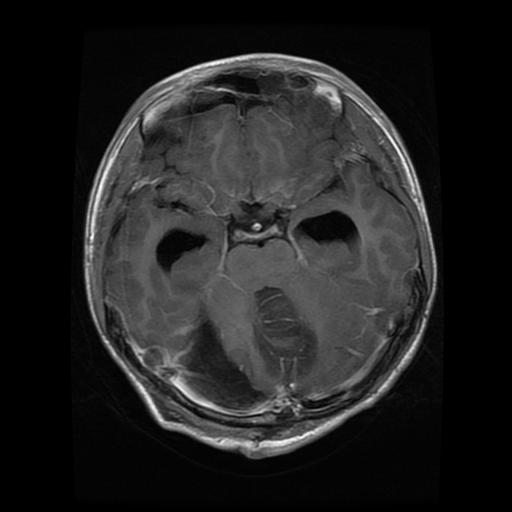Gliomia_tumour: (252, 285, 319, 380)
